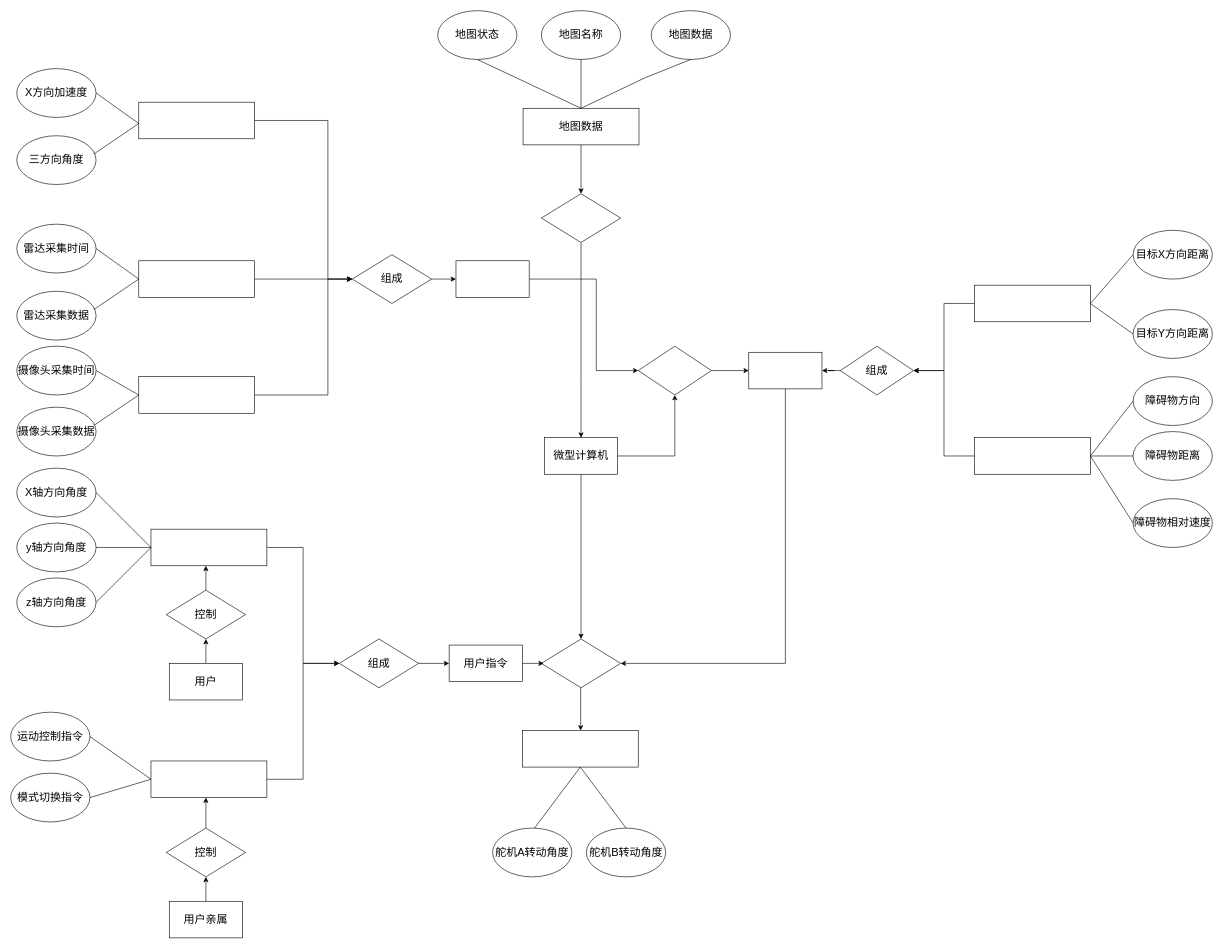
Image size: 1223x949. Some labels were removed from this diagram. Here are the shapes that lost their labels. From the top down, the box of each, then its label:
(138, 102, 255, 139): 轮椅IMU数据
(541, 193, 621, 242): 存储
(138, 260, 255, 297): 激光雷达数据
(455, 260, 529, 297): 环境数据
(974, 285, 1090, 322): 跟随目标推测数据
(638, 346, 711, 395): 计算
(748, 352, 822, 389): 决策辅助数据
(138, 376, 255, 413): 摄像头数据
(974, 437, 1090, 474): 障碍物推测数据
(150, 529, 267, 566): 头戴控制器IMU数据
(541, 638, 621, 688): 生成
(522, 730, 638, 767): 操纵杆控制舵机指令
(150, 760, 267, 798): 手机端控制指令
